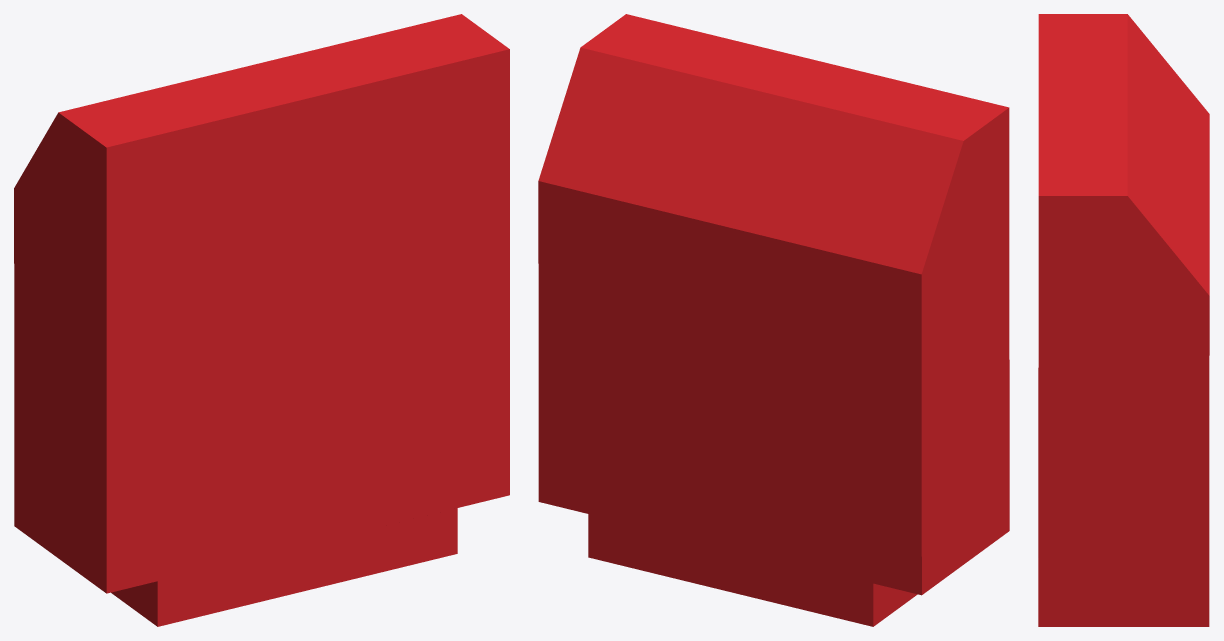
File: ornament_turela.fbx
The picture shows the model from 3 angles, left to right: view 1: azimuth 30°, elevation 25°; view 2: azimuth 150°, elevation 25°; view 3: azimuth 270°, elevation 25°; orthographic projection. The views are drawn at different scales.
Visible parts, largest first — view 1: Cube.003; view 2: Cube.003; view 3: Cube.003.
Boxes of the visible parts, x1=… form: Cube.003: x1=14, y1=14, x2=509, y2=626; Cube.003: x1=538, y1=14, x2=1009, y2=626; Cube.003: x1=1038, y1=14, x2=1209, y2=626.
Size of the model in its own units: 224 by 261 by 88.92.
